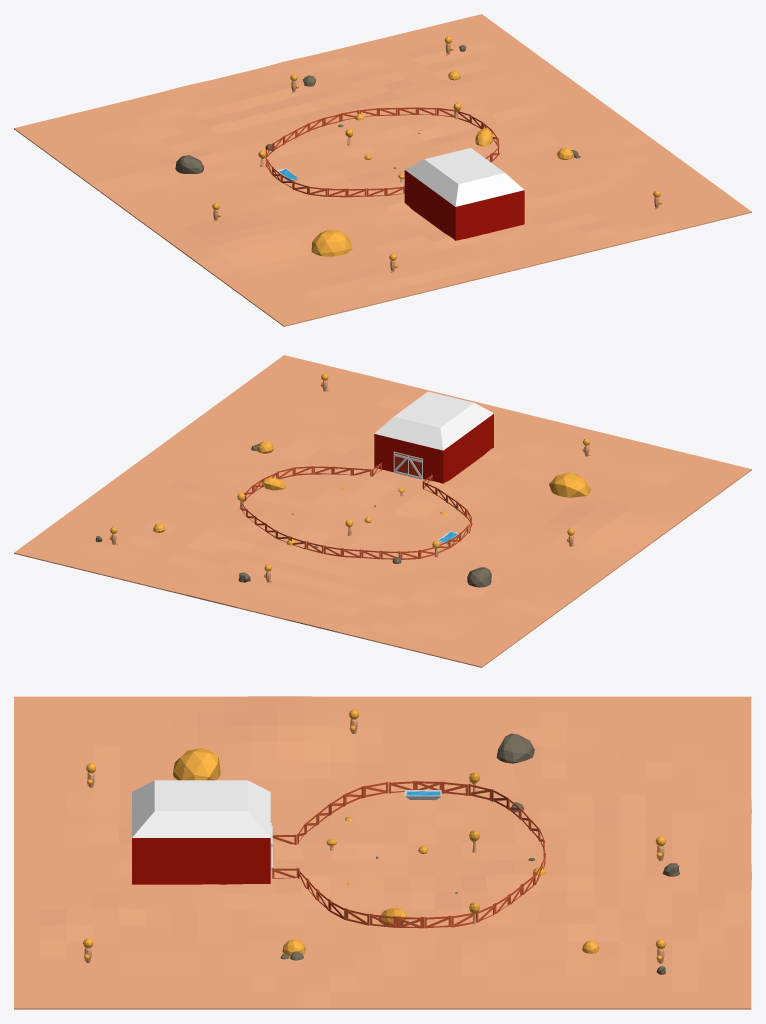
File: Enviroment_Scene.fbx
3 views of the same model, one above another, from view 1: azimuth 30°, elevation 25°; view 2: azimuth 150°, elevation 25°; view 3: azimuth 270°, elevation 25° (orthographic). The views are drawn at different scales.
Parts seen in each view (by area): view 1: Ground, FarmHouse, Full_Fence, Bushes, Trees, Rocks; view 2: Ground, FarmHouse, Full_Fence, Bushes, Trees, Rocks; view 3: Ground, FarmHouse, Full_Fence, Bushes, Trees, Rocks.
Part boxes in pixels (x1,y1,x2,y2): Ground: (14, 14, 751, 326); FarmHouse: (404, 148, 524, 240); Full_Fence: (265, 107, 499, 197); Bushes: (311, 70, 573, 256); Trees: (212, 36, 661, 272); Rocks: (175, 45, 580, 173); Ground: (14, 355, 751, 667); FarmHouse: (374, 391, 493, 483); Full_Fence: (240, 462, 472, 559); Bushes: (153, 441, 590, 545); Trees: (109, 373, 590, 582); Rocks: (95, 444, 491, 587); Ground: (14, 696, 751, 1009); FarmHouse: (132, 780, 272, 884); Full_Fence: (272, 781, 545, 928); Bushes: (172, 748, 599, 956); Trees: (83, 709, 665, 963); Rocks: (280, 733, 679, 974).
Size of the model in its own units: 11586 by 1555 by 11596.
